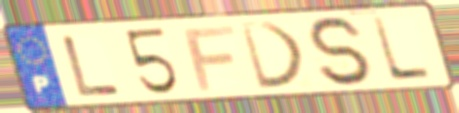5: (121, 25, 181, 97)
D: (236, 20, 310, 92)
F: (180, 23, 239, 94)
L: (368, 15, 436, 83), (58, 34, 125, 99)
S: (304, 15, 379, 89)
